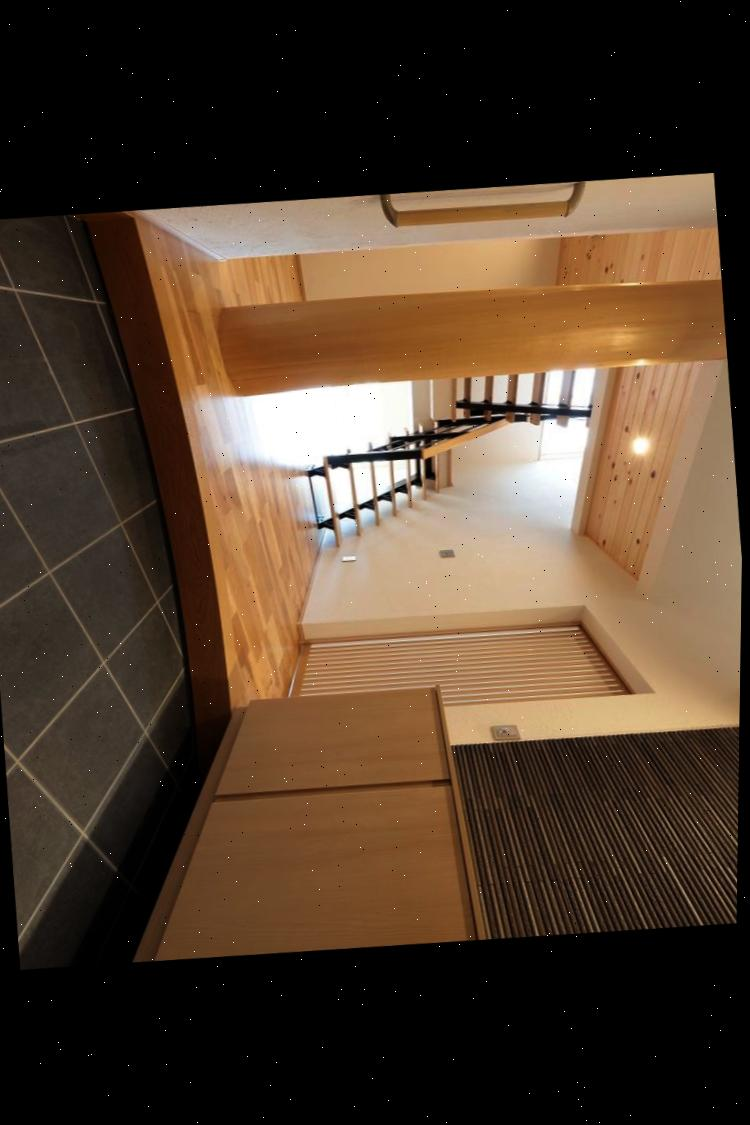floor: (0, 215, 198, 969)
safe: (119, 211, 325, 718)
